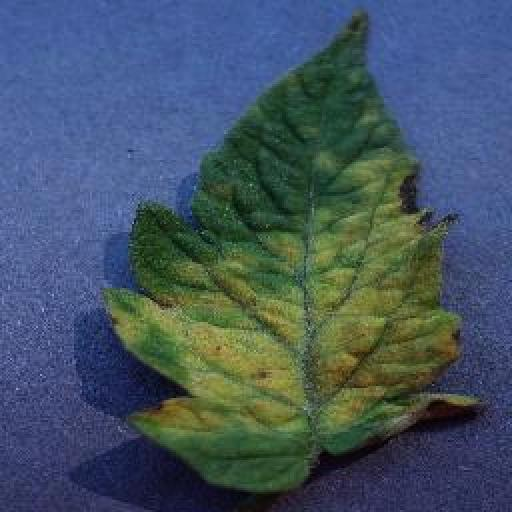disease_tomato: (102, 10, 483, 496)
